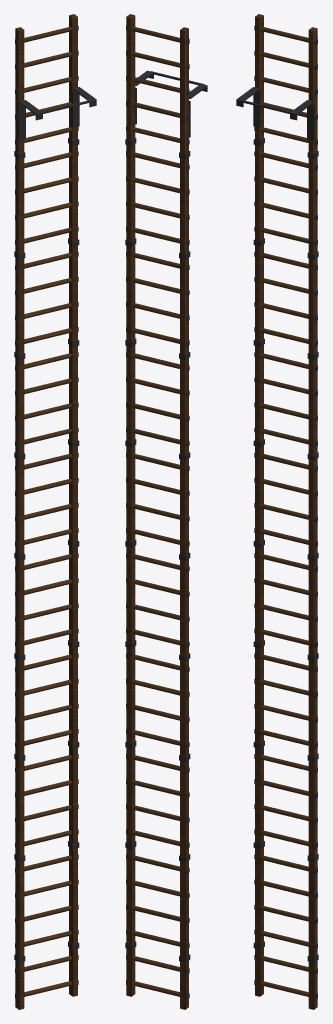
The model's file is ladder_full_10m.glb.
3 views of the same model, side by side, from view 1: azimuth 30°, elevation 25°; view 2: azimuth 150°, elevation 25°; view 3: azimuth 330°, elevation 25° (orthographic).
Visible parts, largest first — view 1: ladder_full_mesh; view 2: ladder_full_mesh; view 3: ladder_full_mesh.
Boxes of the visible parts, x1,y1,x2,y2 form: ladder_full_mesh: [14, 14, 96, 1009]; ladder_full_mesh: [125, 14, 207, 1009]; ladder_full_mesh: [236, 14, 318, 1009].
Size of the model in its own units: 0.638 by 9.75 by 0.4.
2 materials, 2 textured.
